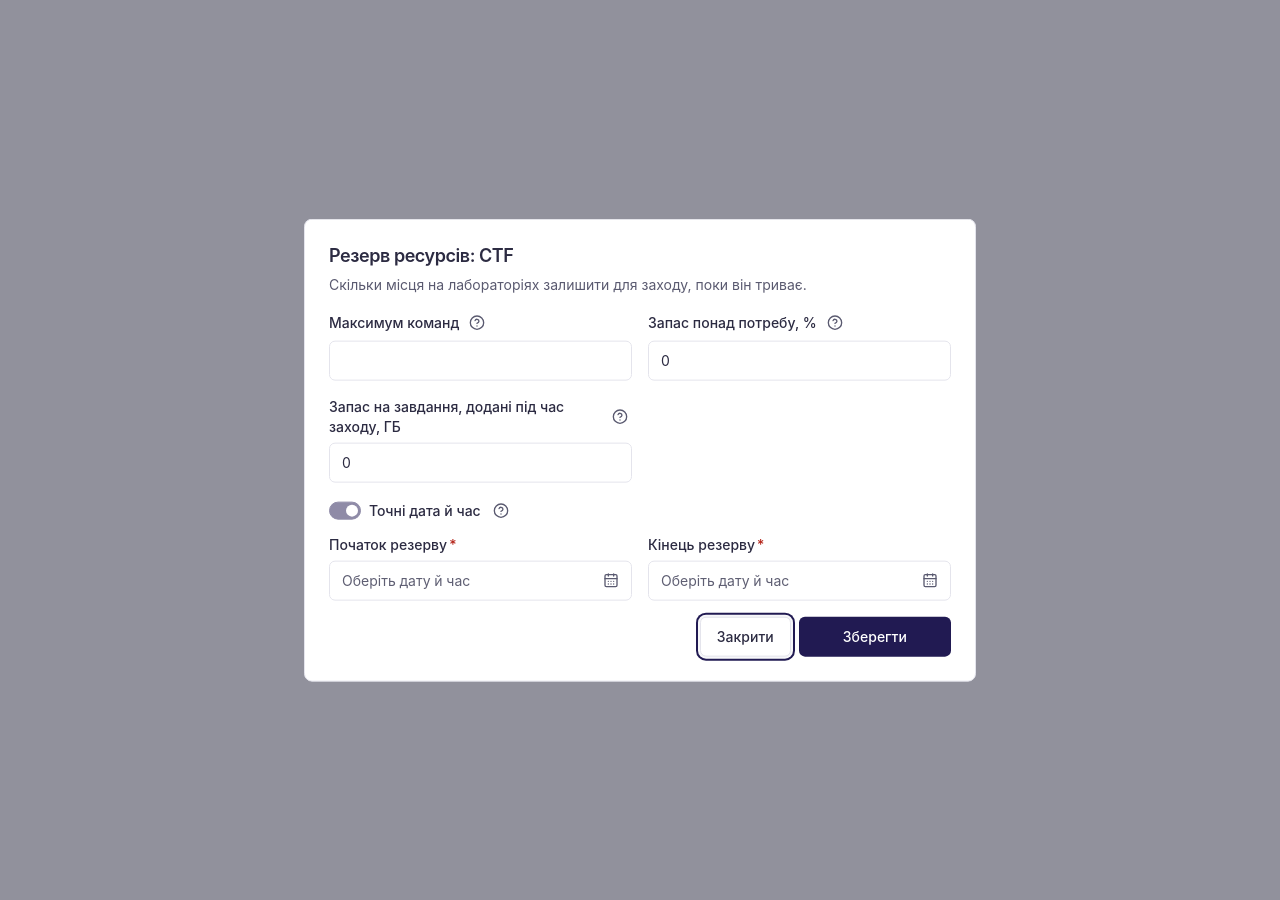
Test: ReservationEditor › forces the fixed window when the event has no schedule and asks for it on save
The image size is (1280, 900).
Expected: the switch named "Точні дата й час" is disabled, 329,501 -> 361,519
Type "3" into the field named "Максимум команд". click: (480, 360)
box: 329,340 -> 632,380
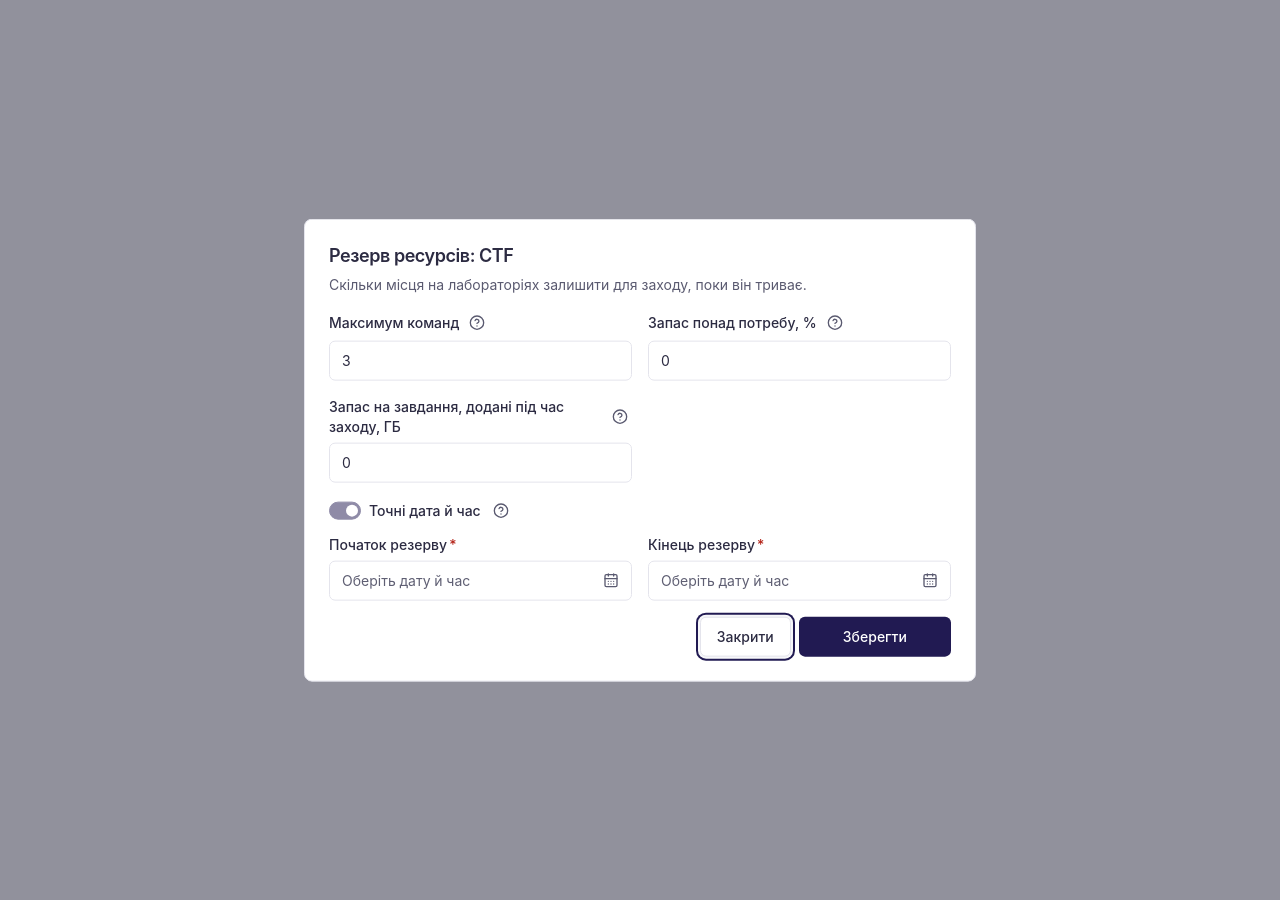
Click the button "Зберегти". click: (875, 636)
box: 799,616 -> 951,656
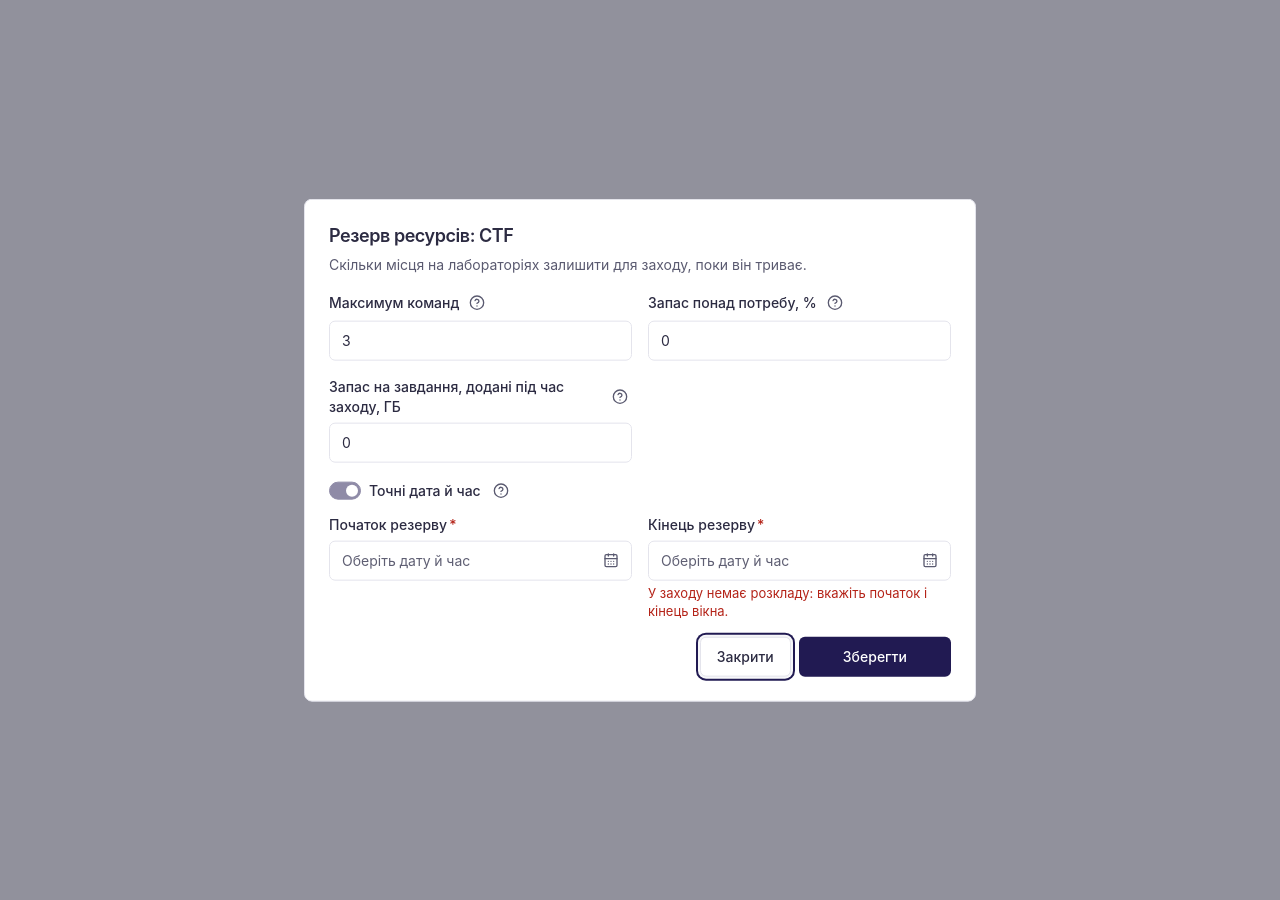
Now the text "У заходу немає розкладу: вкажіть початок і кінець вікна." is shown, box 648,584 -> 951,620
